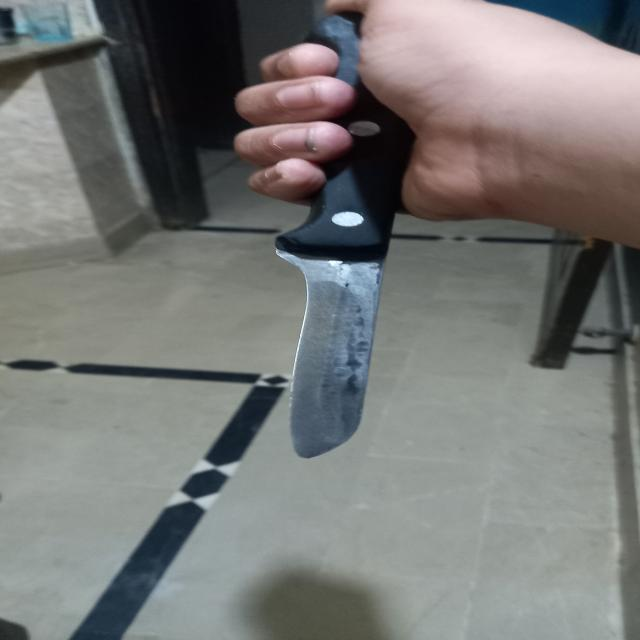Knife: (271, 2, 431, 460)
